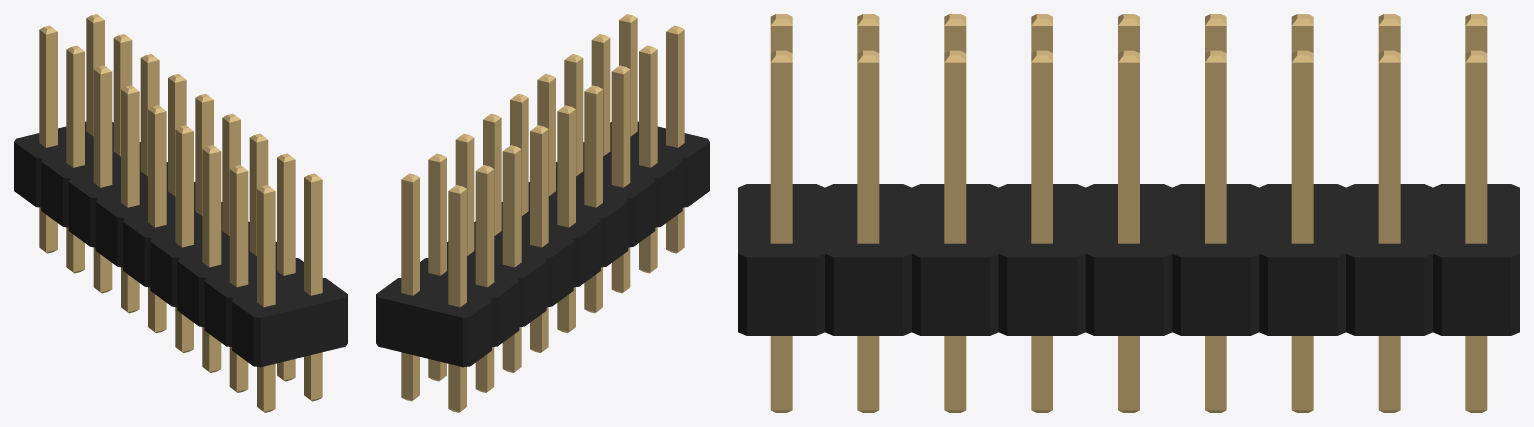
Rendered from kc-pinheader_2x09_p2.54mm_vertical.glb.
3 views of the same model, side by side, from view 1: azimuth 30°, elevation 25°; view 2: azimuth 150°, elevation 25°; view 3: azimuth 270°, elevation 25° (orthographic). The views are drawn at different scales.
Parts seen in each view (by area): view 1: 0.75_0.5_0.25_0.9, 0_0_0_0; view 2: 0.75_0.5_0.25_0.9, 0_0_0_0; view 3: 0_0_0_0, 0.75_0.5_0.25_0.9.
Part boxes in pixels (x1,y1,x2,y2): 0.75_0.5_0.25_0.9: (39, 14, 322, 412); 0_0_0_0: (14, 121, 347, 367); 0.75_0.5_0.25_0.9: (401, 14, 684, 412); 0_0_0_0: (376, 121, 709, 367); 0_0_0_0: (738, 184, 1519, 335); 0.75_0.5_0.25_0.9: (770, 14, 1487, 412).
Bounding box in the file's own units: 0.5079 × 1.15 × 2.29.
